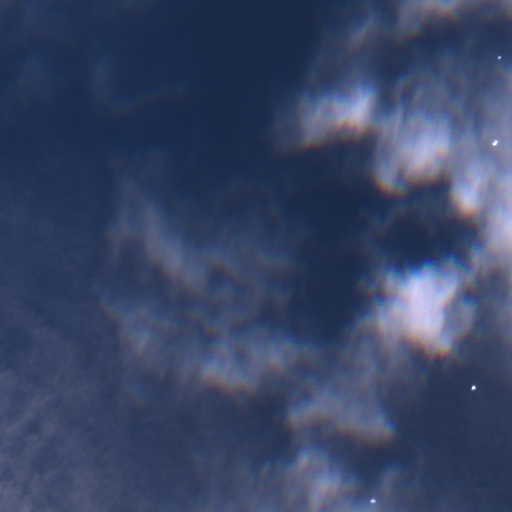Iceberg: (492, 140, 498, 145), (471, 385, 475, 390), (370, 498, 375, 502), (497, 55, 501, 59)
